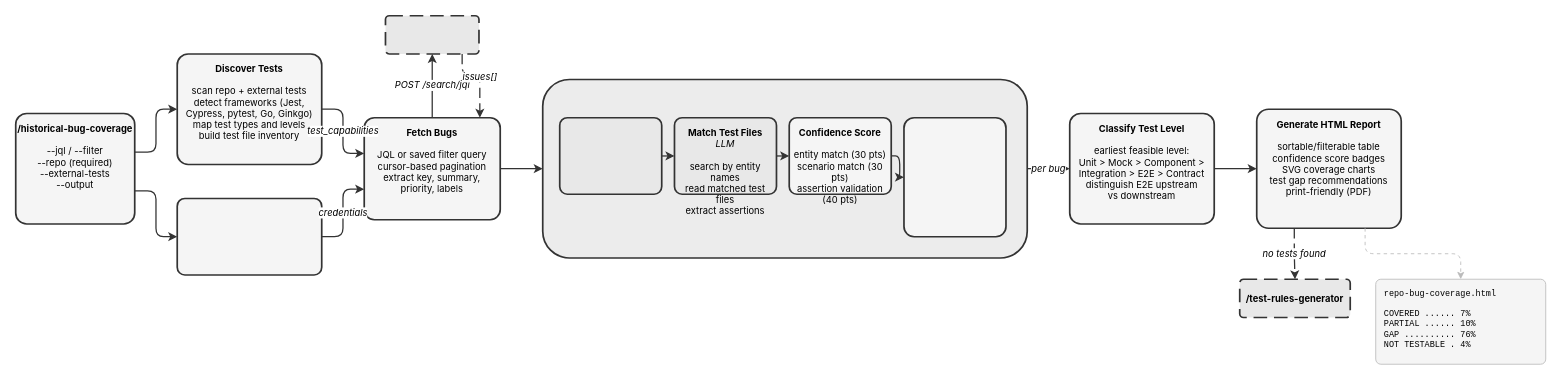
The diagram is 1561 pixels wide and 379 high, and some of its shapes have lost their labels. Each missing label, with the box of its shape:
Classify Status COVERED (>= 80%) PARTIAL (60-80%) GAP (< 60%) NOT TESTABLE: (903, 116, 1006, 237)
Coverage Analysis: (541, 78, 1028, 258)
Extract Entities LLM components, functions, APIs failure scenario keywords: (558, 116, 662, 195)
Jira API: (384, 14, 479, 54)
Validate Env locate .env file require JIRA_SERVER, JIRA_USER, JIRA_TOKEN: (176, 197, 322, 275)
